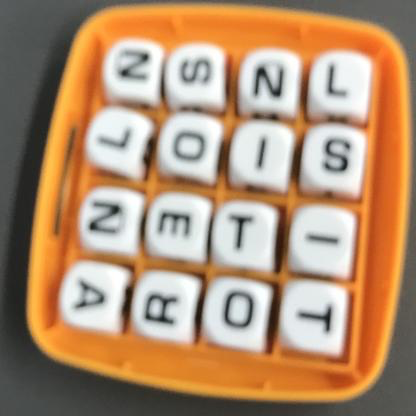a: (59, 262, 122, 328)
e: (151, 197, 201, 250)
i: (296, 207, 358, 271), (235, 122, 294, 188)
l: (312, 54, 373, 112), (88, 107, 143, 168)
n: (242, 47, 299, 111), (108, 35, 160, 93), (82, 189, 132, 248)
o: (213, 283, 267, 342), (165, 116, 215, 174)
r: (138, 271, 196, 345)
s: (309, 129, 363, 189), (171, 48, 223, 94)
t: (287, 282, 341, 351), (221, 202, 274, 263)
